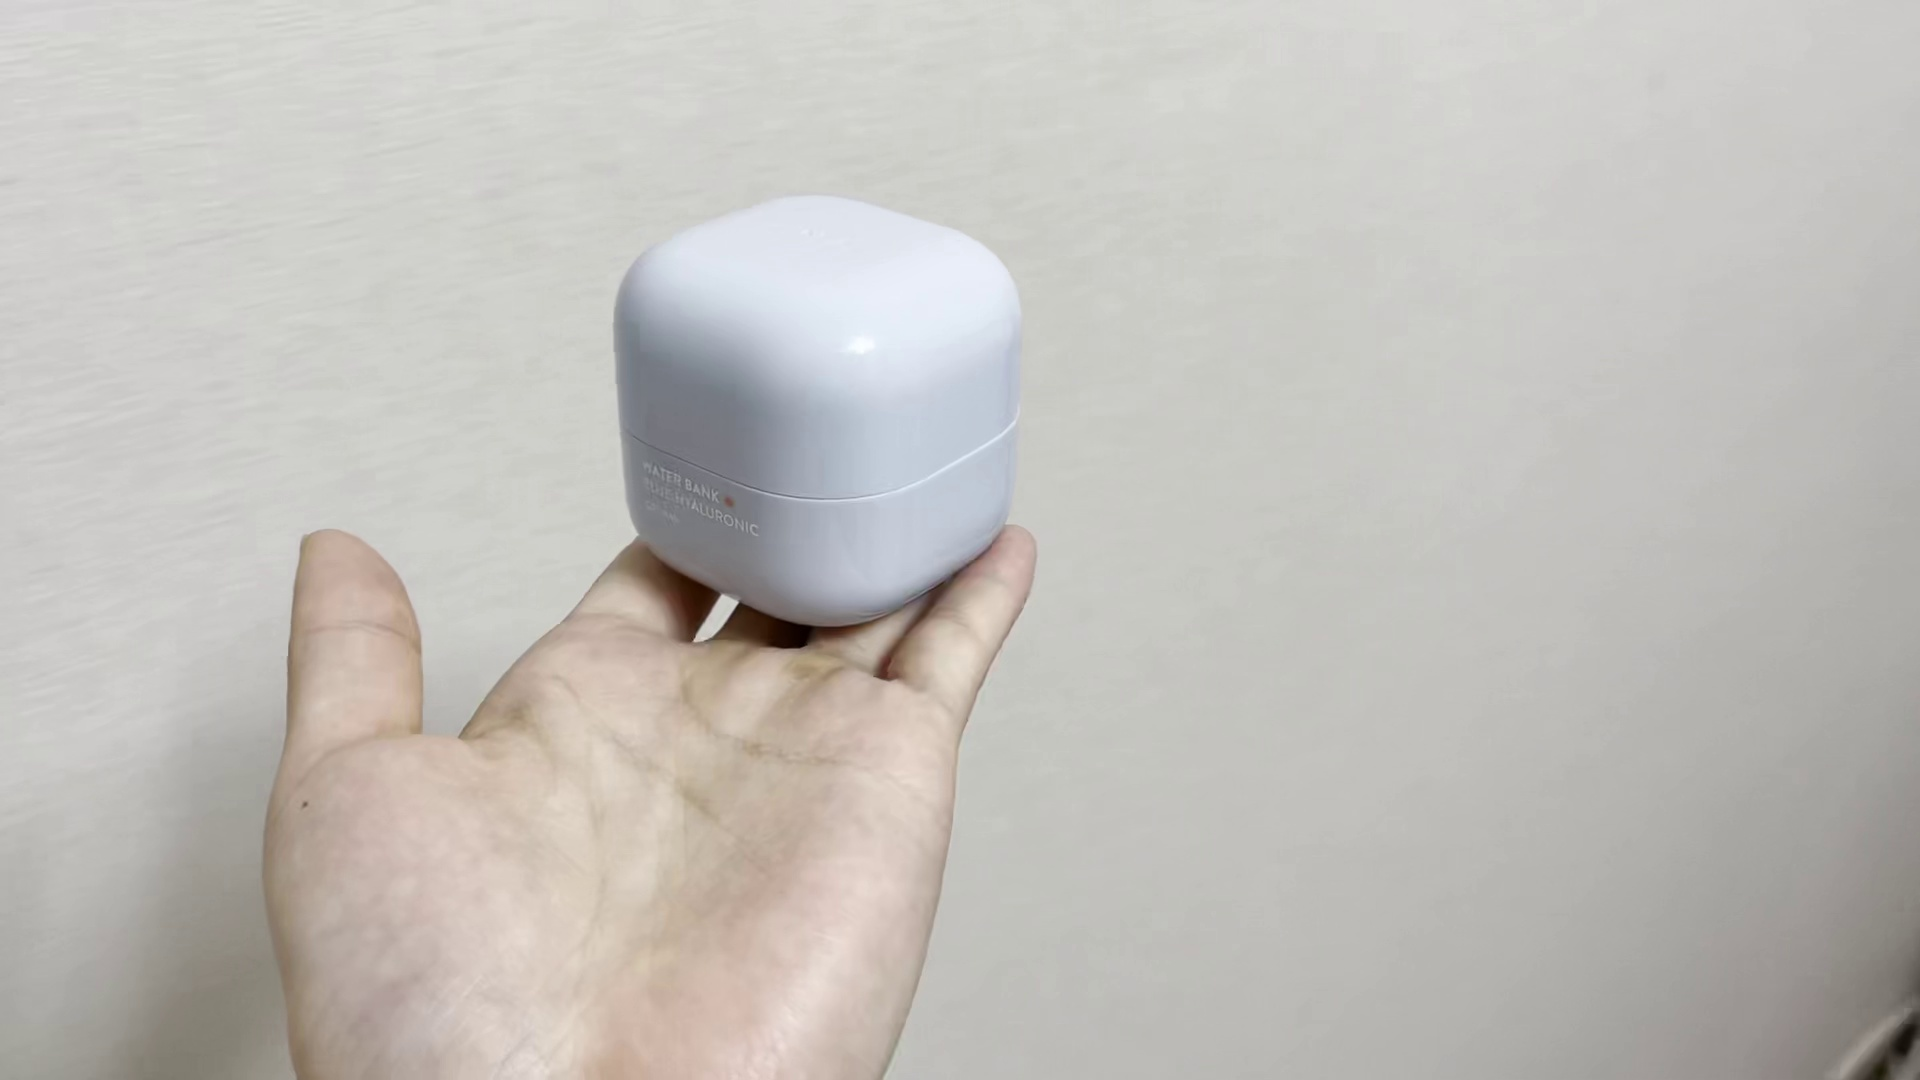cream: (612, 196, 1021, 622)
